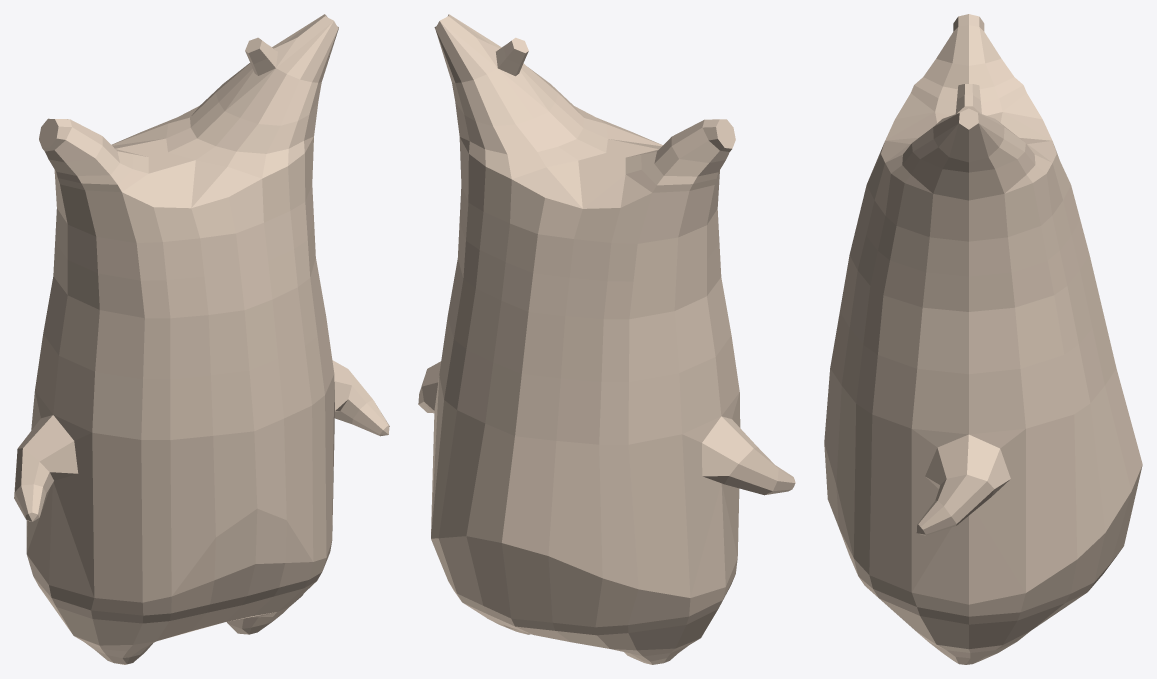
Rendered from frame_0011.obj.
The picture shows the model from 3 angles, left to right: view 1: azimuth 30°, elevation 25°; view 2: azimuth 150°, elevation 25°; view 3: azimuth 270°, elevation 25°; orthographic projection.
Parts seen in each view (by area): view 1: korok; view 2: korok; view 3: korok.
Boxes of the visible parts, <box> form: korok: <box>14,14,389,664</box>; korok: <box>418,14,795,664</box>; korok: <box>824,14,1142,664</box>.
Bounding box in the file's own units: 1.4 × 2.2 × 1.07.
